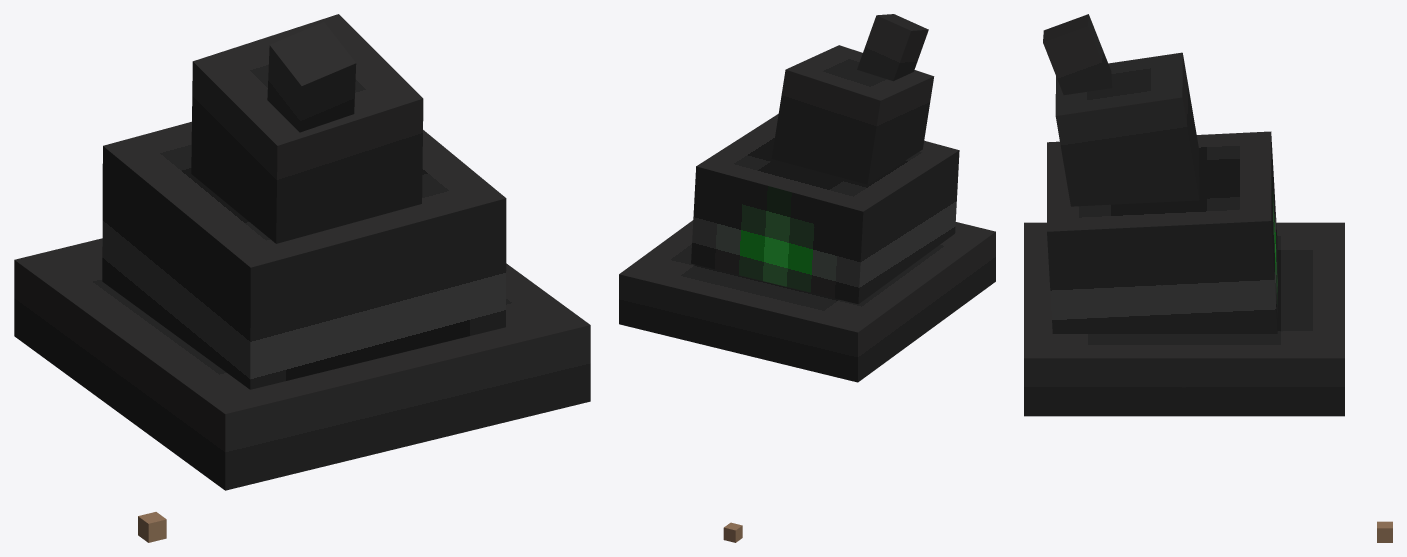
File: witch_hat.gltf
The picture shows the model from 3 angles, left to right: view 1: azimuth 30°, elevation 25°; view 2: azimuth 150°, elevation 25°; view 3: azimuth 270°, elevation 25°; orthographic projection. The views are drawn at different scales.
Visible parts, largest first — view 1: hat2, hat, hat3, hat4, nose; view 2: hat2, hat, hat3, hat4; view 3: hat, hat2, hat3, hat4.
Part boxes in pixels (x1=…): hat2: x1=102, y1=121, x2=506, y2=389; hat: x1=14, y1=238, x2=590, y2=490; hat3: x1=191, y1=14, x2=423, y2=243; hat4: x1=267, y1=22, x2=356, y2=132; nose: x1=138, y1=512, x2=166, y2=542; hat2: x1=691, y1=114, x2=959, y2=304; hat: x1=619, y1=220, x2=995, y2=382; hat3: x1=771, y1=45, x2=934, y2=184; hat4: x1=857, y1=14, x2=928, y2=81; hat: x1=1024, y1=222, x2=1344, y2=416; hat2: x1=1047, y1=131, x2=1277, y2=333; hat3: x1=1055, y1=52, x2=1199, y2=206; hat4: x1=1043, y1=14, x2=1112, y2=94.
Size of the model in its own units: 0.625 by 1.08 by 0.7188.
Materials: 1 (1 with a texture image).
